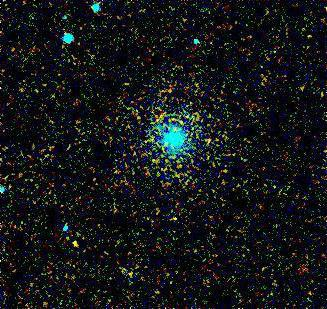star: (60, 229, 90, 259)
